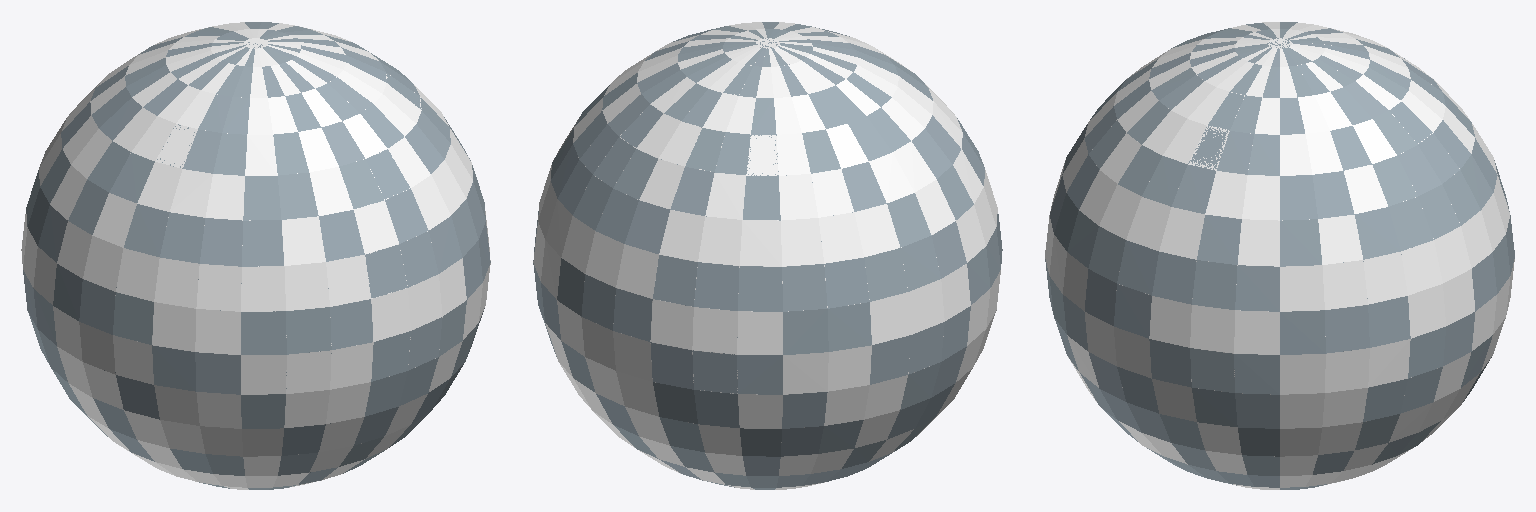
The model's file is ball_0.obj.
3 renders of one model, left to right at view 1: azimuth 30°, elevation 25°; view 2: azimuth 150°, elevation 25°; view 3: azimuth 270°, elevation 25°, orthographic.
Visible parts, largest first — view 1: Mesh1 PoolTable_CueBall_01_1 Component1 Model; view 2: Mesh1 PoolTable_CueBall_01_1 Component1 Model; view 3: Mesh1 PoolTable_CueBall_01_1 Component1 Model.
Part boxes in pixels (x1,y1,x2,y2): Mesh1 PoolTable_CueBall_01_1 Component1 Model: (21,22,490,489); Mesh1 PoolTable_CueBall_01_1 Component1 Model: (533,22,1002,489); Mesh1 PoolTable_CueBall_01_1 Component1 Model: (1045,22,1514,489).
Bounding box in the file's own units: 0.0572 × 0.0572 × 0.0573.